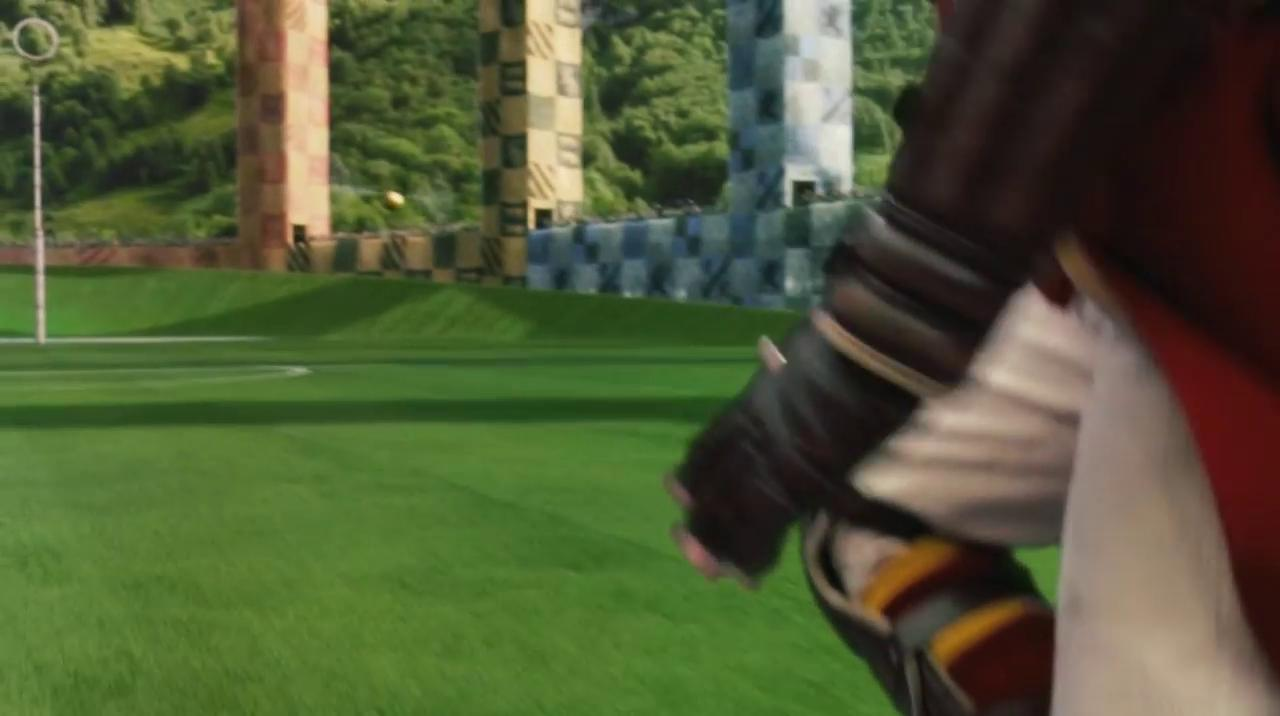snitch: (380, 189, 409, 215)
